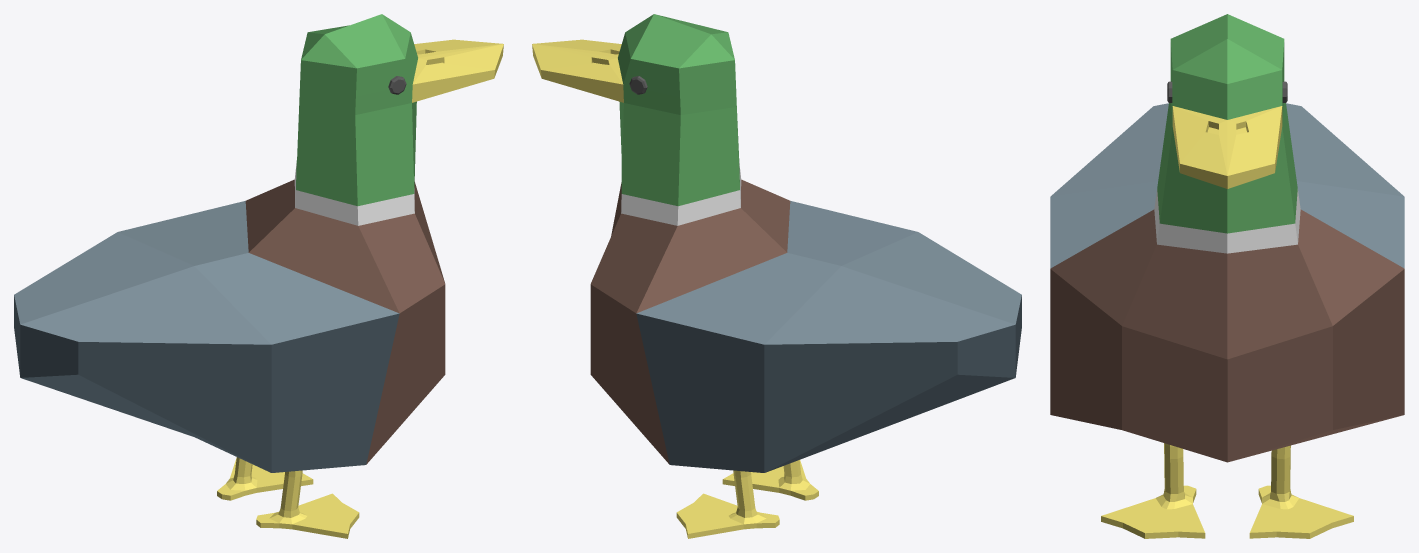
File: pp_2KHEgw1ztVI.glb
3 renders of one model, left to right at view 1: azimuth 30°, elevation 25°; view 2: azimuth 150°, elevation 25°; view 3: azimuth 270°, elevation 25°, orthographic. The views are drawn at different scales.
Parts seen in each view (by area): view 1: Duck_01_Cube.045; view 2: Duck_01_Cube.045; view 3: Duck_01_Cube.045.
Boxes of the visible parts, <box> form: Duck_01_Cube.045: <box>14,14,503,538</box>; Duck_01_Cube.045: <box>532,14,1021,538</box>; Duck_01_Cube.045: <box>1050,14,1404,538</box>.
Size of the model in its own units: 0.3061 by 0.28 by 0.1688.
